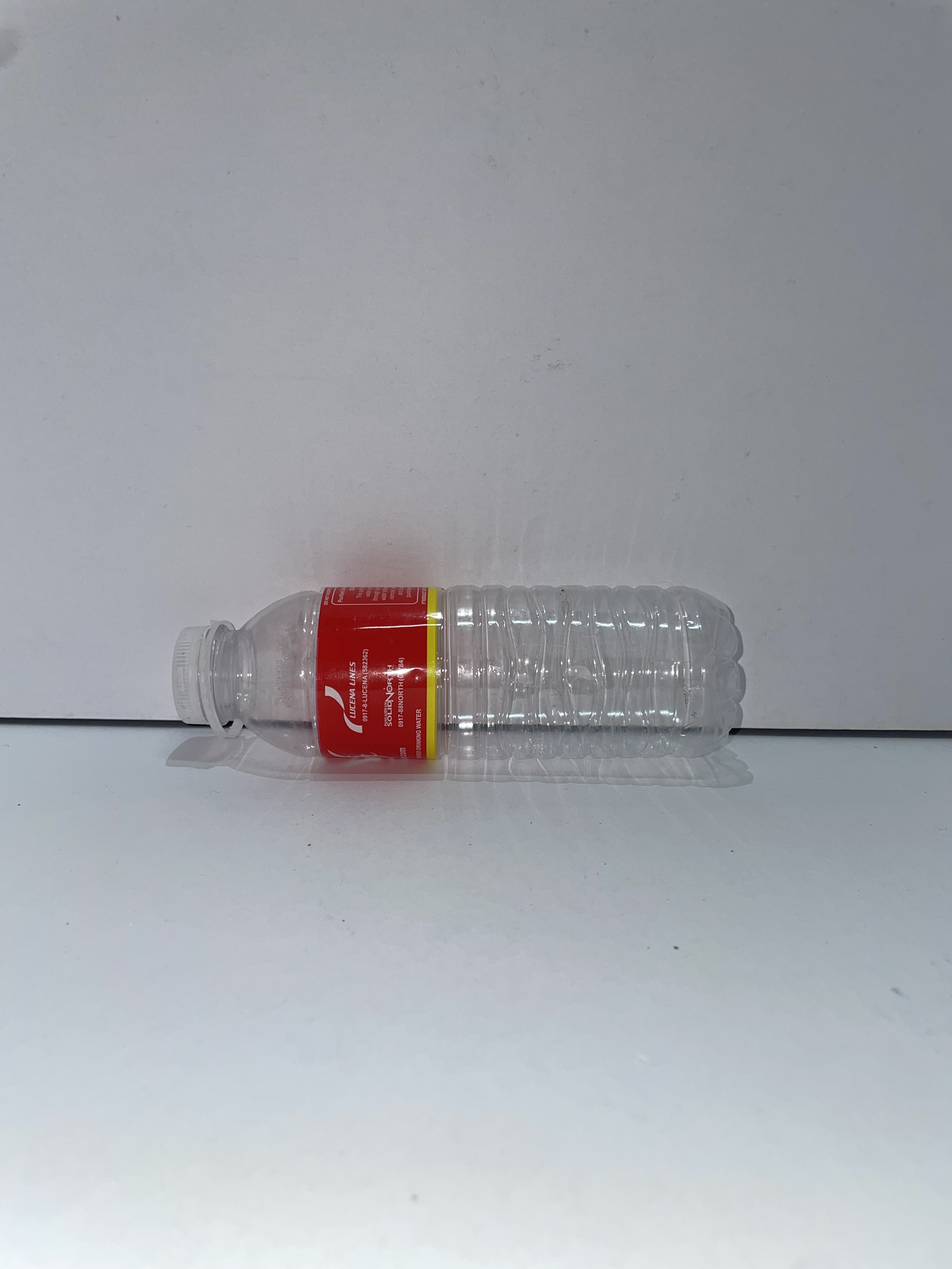Nature spring victory liner 330ml: (173, 585, 743, 775)
